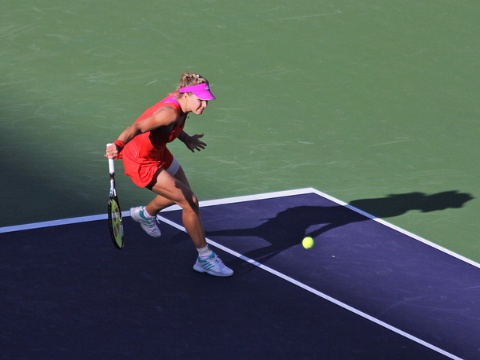hand: (186, 132, 209, 155), (101, 144, 120, 160)
